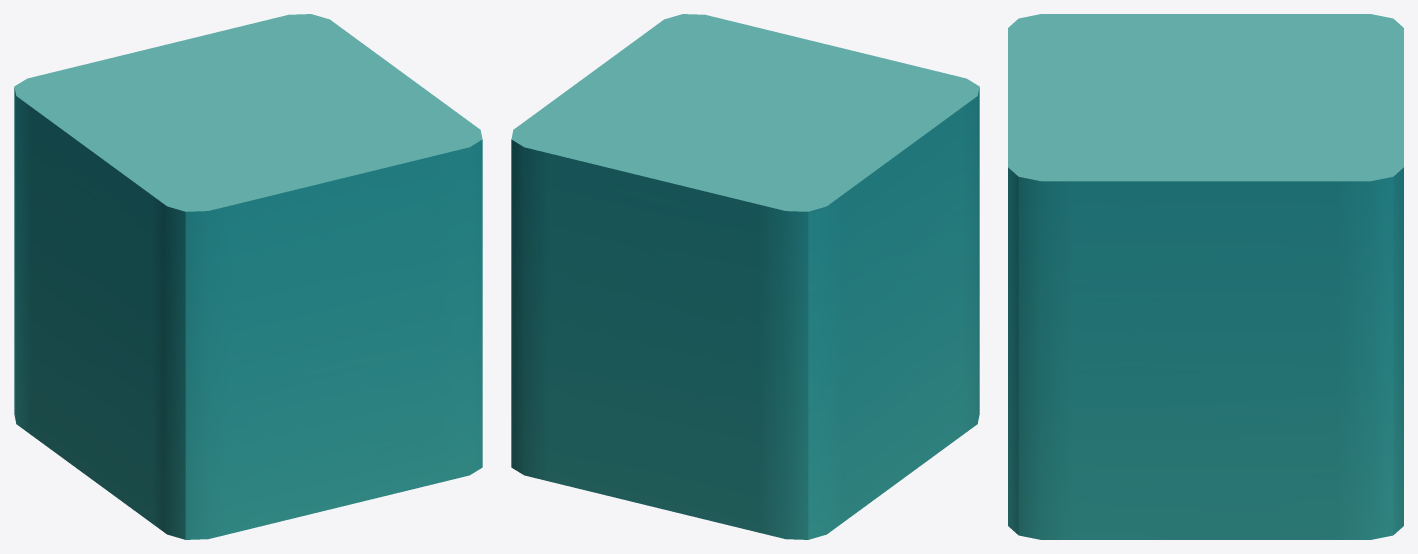
Rendered from Wall9.fbx.
The picture shows the model from 3 angles, left to right: view 1: azimuth 30°, elevation 25°; view 2: azimuth 150°, elevation 25°; view 3: azimuth 270°, elevation 25°; orthographic projection. The views are drawn at different scales.
Visible parts, largest first — view 1: Wall9; view 2: Wall9; view 3: Wall9.
Boxes of the visible parts, <box> form: Wall9: <box>14,14,482,539</box>; Wall9: <box>511,14,979,539</box>; Wall9: <box>1008,14,1403,539</box>.
Bounding box in the file's own units: 100 × 100 × 100.
1 material, 1 textured.
